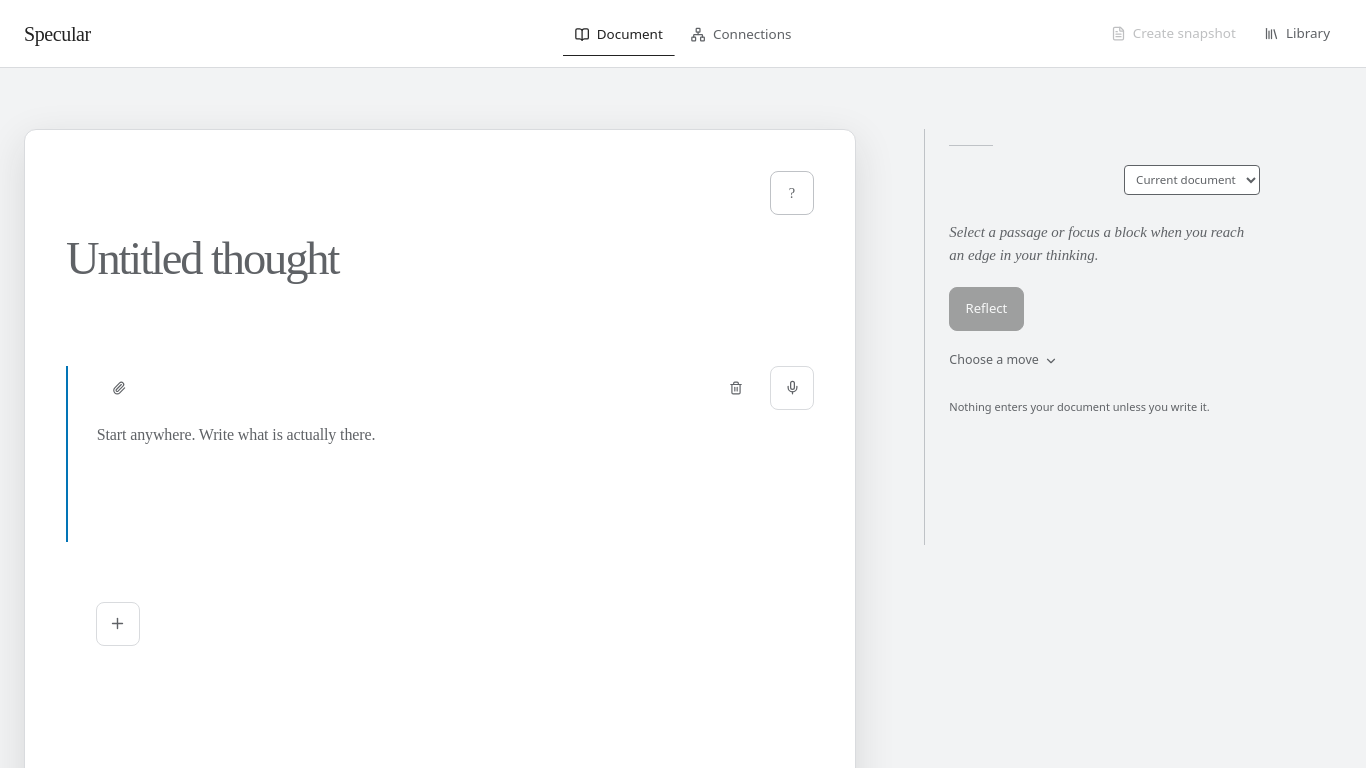
Test: Specular thinking workspace › never presents an empty transcription as a reviewable dictation
Click the button named "Start dictation" at [792, 388], box [770,366,814,410]
(page scrolled)
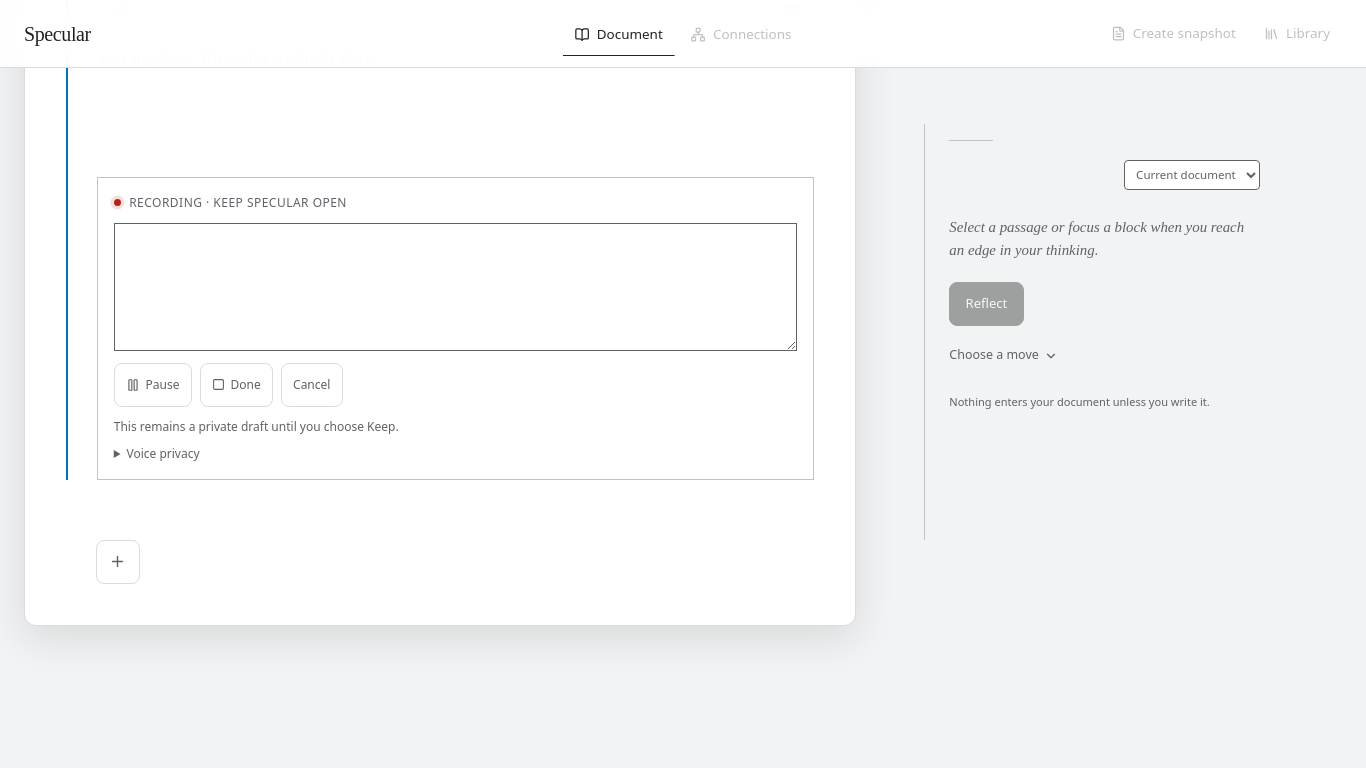
Click the button with aria-label "Finish dictation" at [236, 385], box [200,363,273,407]
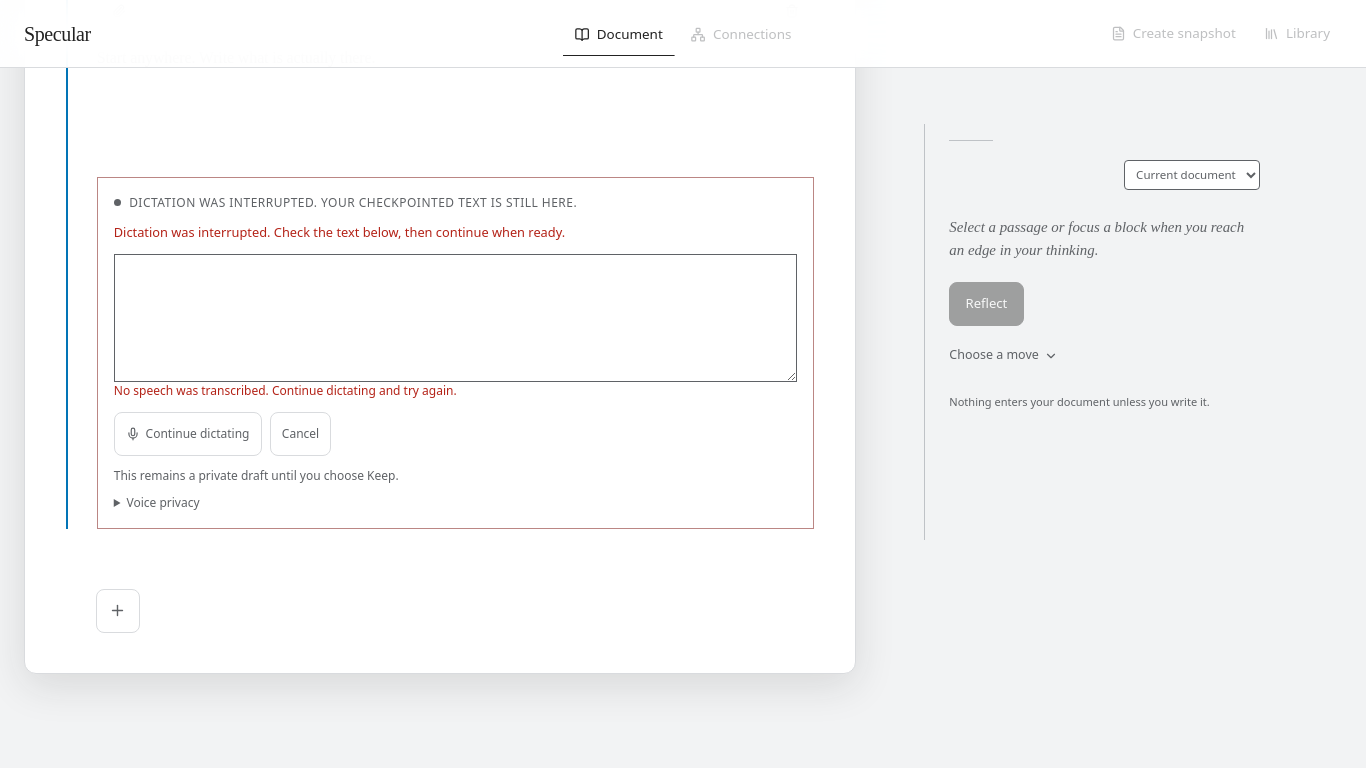
Now the text "No speech was transcribed. Continue dictating and try again." is shown, box [114,382,457,398]
Now the button "Continue dictating" is shown, box [114,412,262,456]
